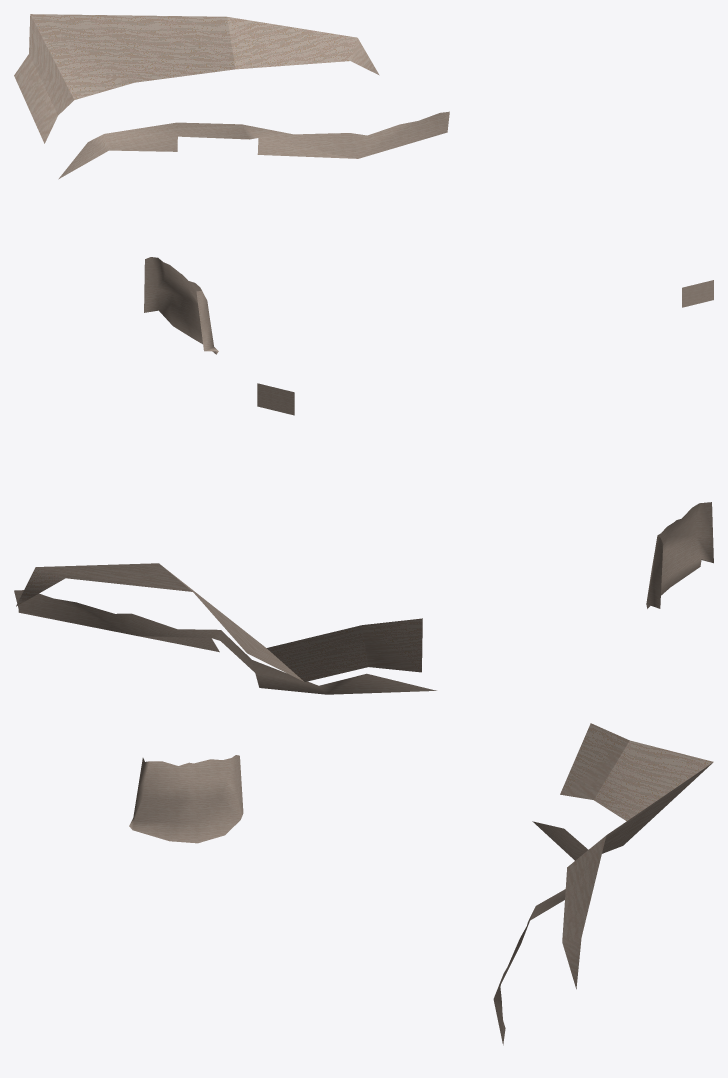
File: kd_stage_135ebf_2_16.glb
The picture shows the model from 3 angles, top to bottom: view 1: azimuth 30°, elevation 25°; view 2: azimuth 150°, elevation 25°; view 3: azimuth 270°, elevation 25°; orthographic projection. The views are drawn at different scales.
Visible parts, largest first — view 1: kd_stage_135ebf_2_16; view 2: kd_stage_135ebf_2_16; view 3: kd_stage_135ebf_2_16.
Part boxes in pixels (left/top/right/bottom): kd_stage_135ebf_2_16: left=14, top=14, right=713, bottom=354; kd_stage_135ebf_2_16: left=14, top=383, right=713, bottom=694; kd_stage_135ebf_2_16: left=129, top=723, right=713, bottom=1045.
Size of the model in its own units: 90.91 by 23.31 by 116.
Materials: 1 (1 with a texture image).
